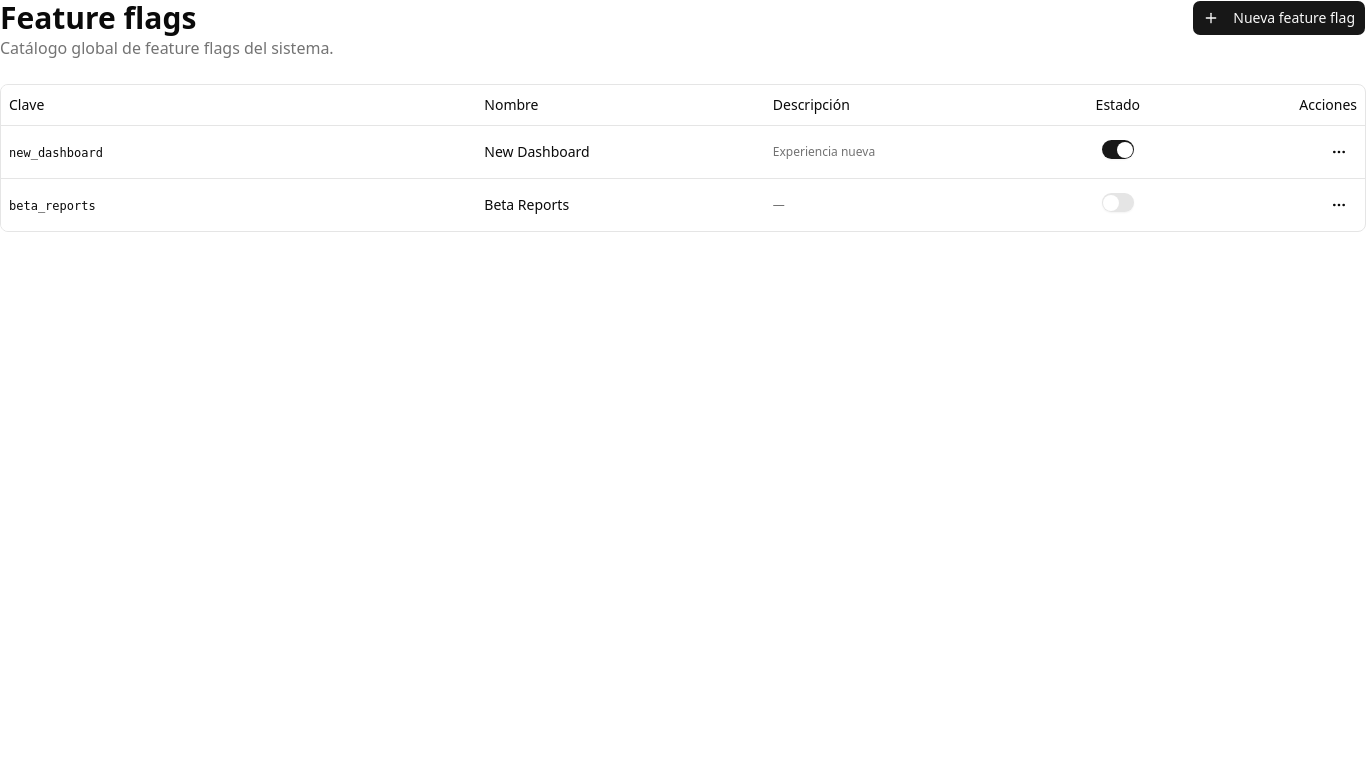
it: FeatureFlagsPage › el botón "Nueva feature flag" abre el sheet de creación
Click the button "Nueva feature flag". click: (1279, 18)
box: x1=1192 y1=0 x2=1365 y2=36
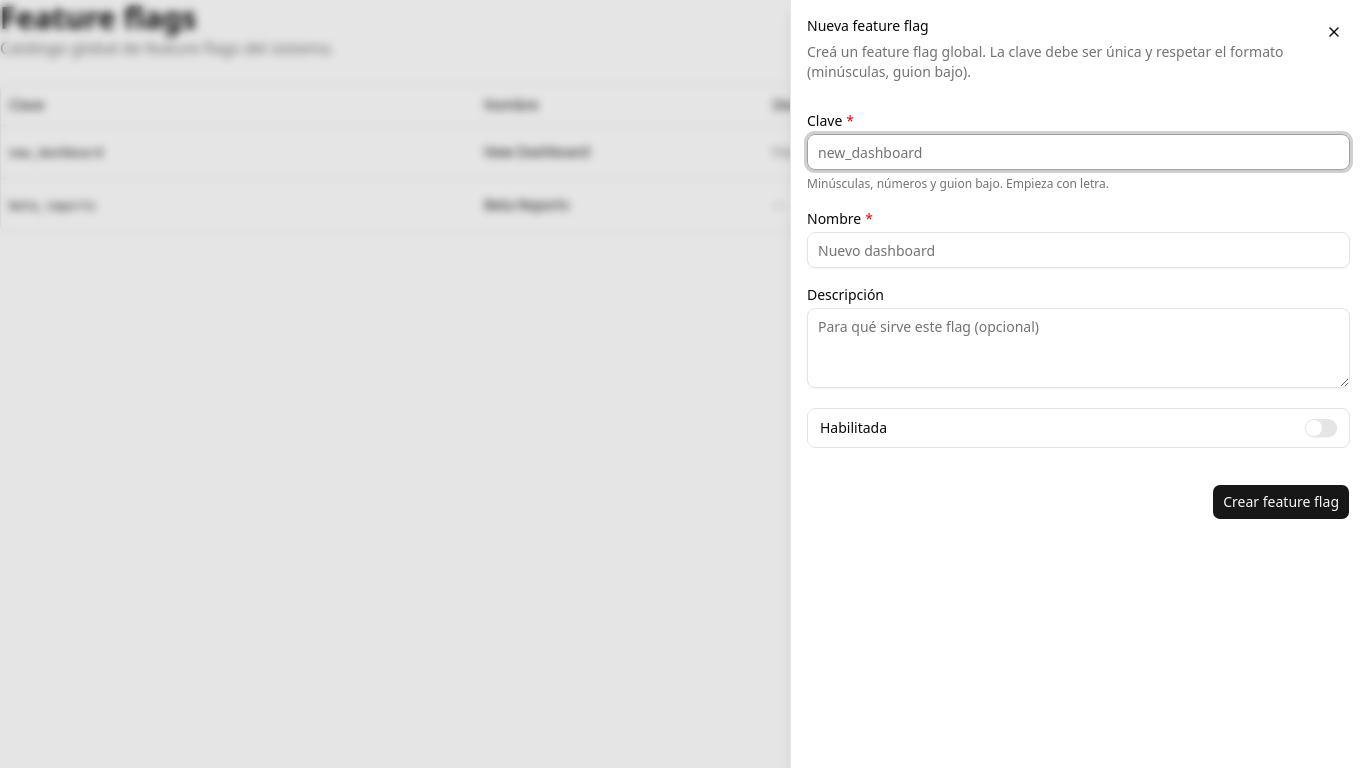
Check: the button "Crear feature flag" is shown, box x1=1212 y1=484 x2=1350 y2=520
